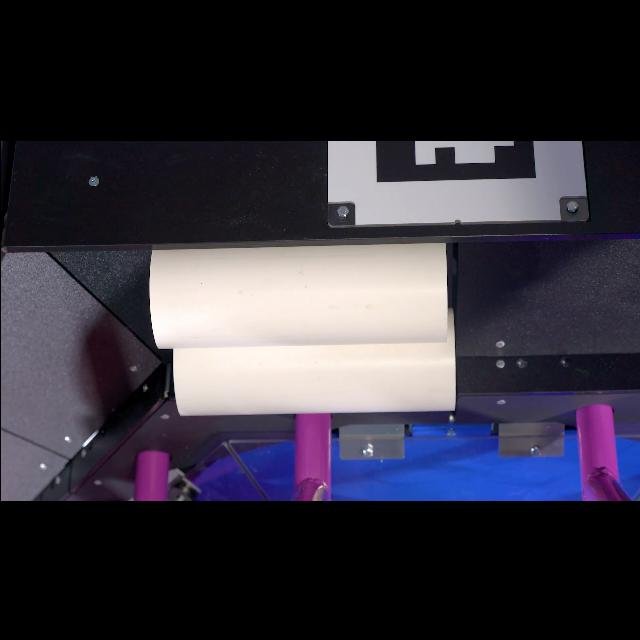CORAL: (148, 242, 448, 350), (172, 309, 456, 416)
